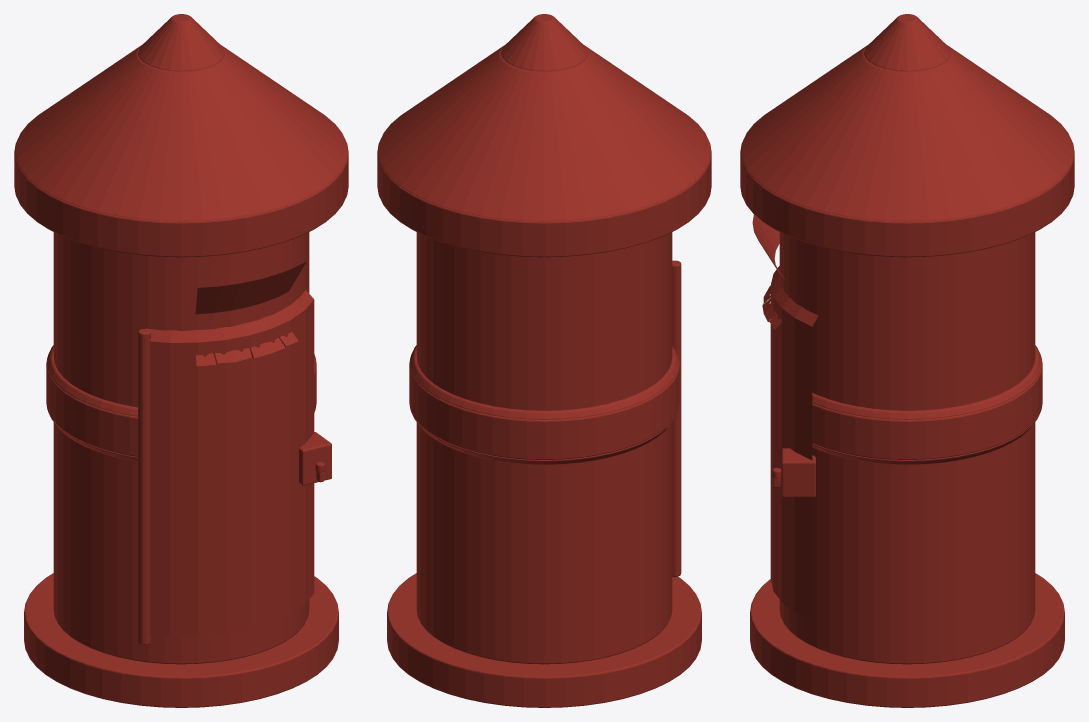
The model's file is pillarbox.glb.
3 renders of one model, left to right at view 1: azimuth 30°, elevation 25°; view 2: azimuth 150°, elevation 25°; view 3: azimuth 270°, elevation 25°, orthographic.
Visible parts, largest first — view 1: pillarbox; view 2: pillarbox; view 3: pillarbox.
Part boxes in pixels (x1,y1,x2,y2): pillarbox: (14, 14, 348, 707); pillarbox: (377, 14, 711, 707); pillarbox: (740, 14, 1074, 707).
Bounding box in the file's own units: 0.68 × 1.4 × 0.68.
